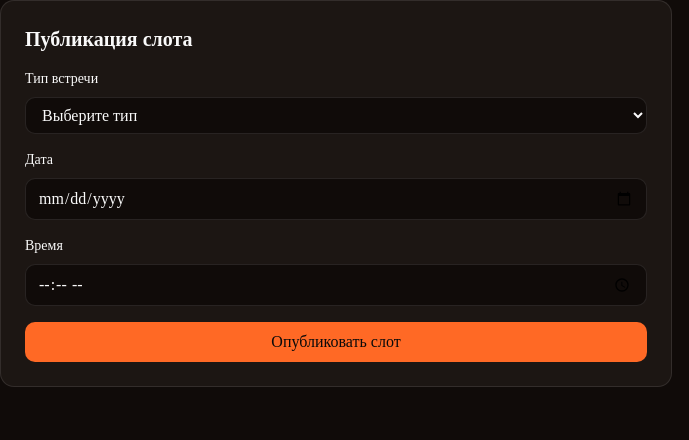
admin page publishes slots › creates a slot with interval duration from the chosen type
The image size is (689, 440).
Select "Созвон, 30 мин." in the dropdown labelled "Тип встречи" at {"x": 336, "y": 116}, box [25,97,647,134]
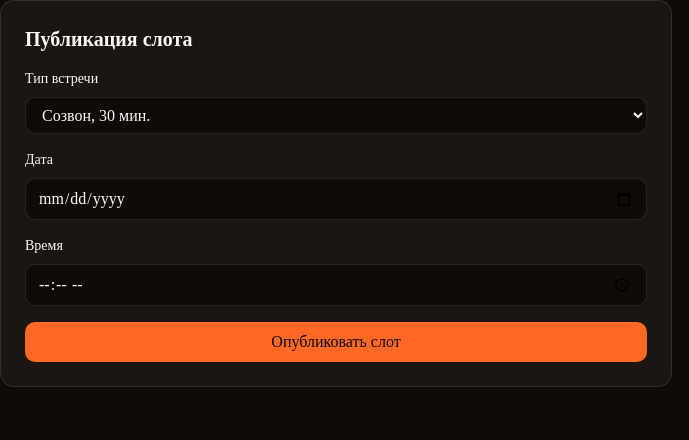
Type "2026-11-15" into the date field labelled "Дата" at {"x": 336, "y": 199}, box [25,178,647,220]
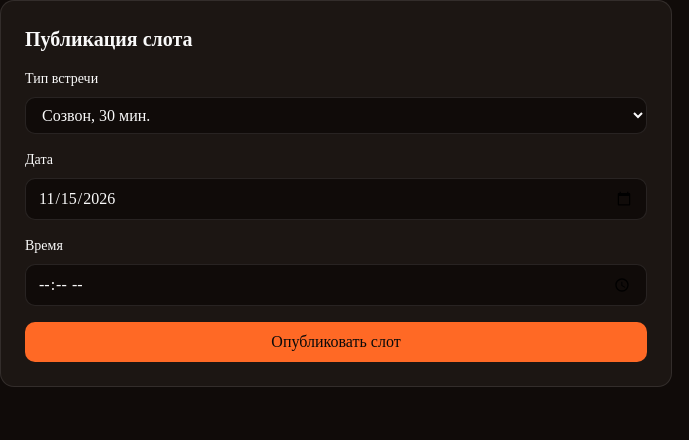
Type "10:00" into the time field labelled "Время" at {"x": 336, "y": 285}, box [25,264,647,306]
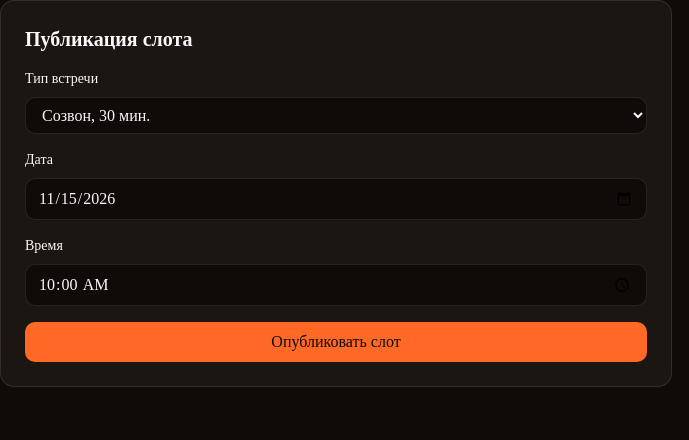
Click the button "Опубликовать слот" at {"x": 336, "y": 342}, box [25,322,647,362]
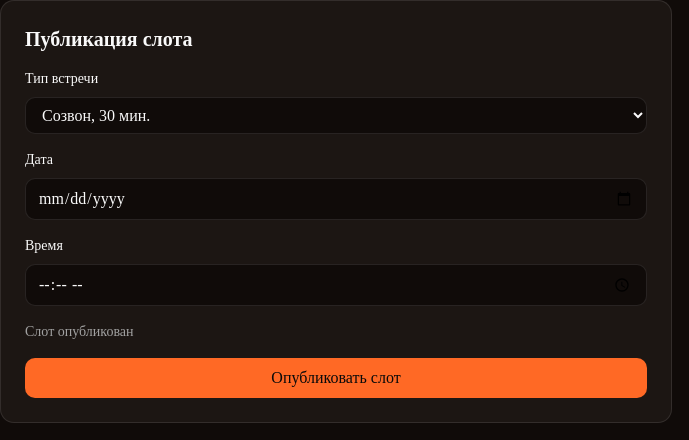
Expected: the text "Слот опубликован" is shown, [25,324,134,339]
